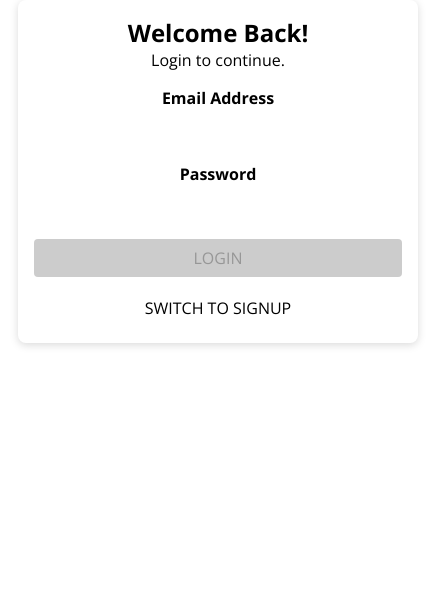
Auth page › hides Name field when switching back to login
This screenshot has width=437, height=609.
Click the button "SWITCH TO SIGNUP" at (218, 308), box x1=34 y1=289 x2=402 y2=327
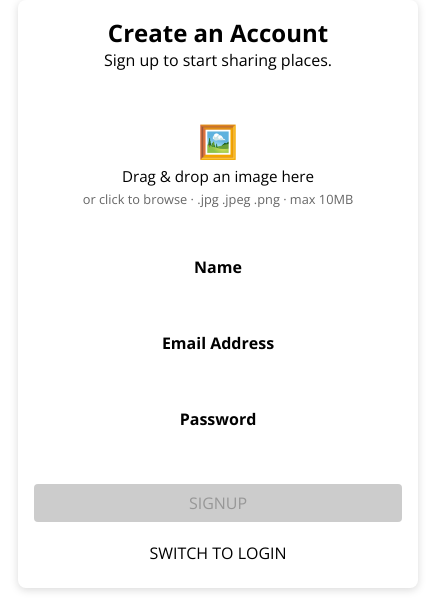
Click the button "SWITCH TO LOGIN" at (218, 553), box x1=34 y1=534 x2=402 y2=572
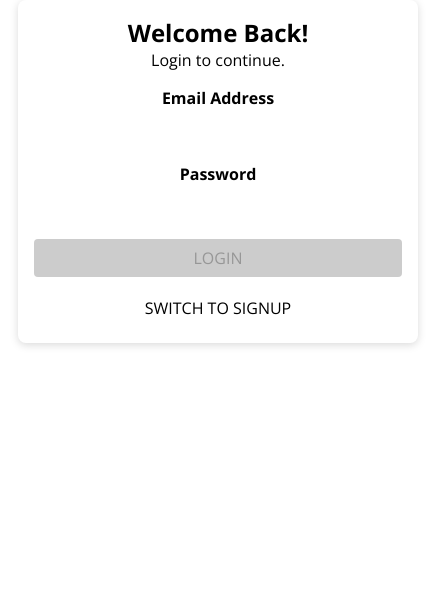
Expected: the label labelled "Name" is gone
